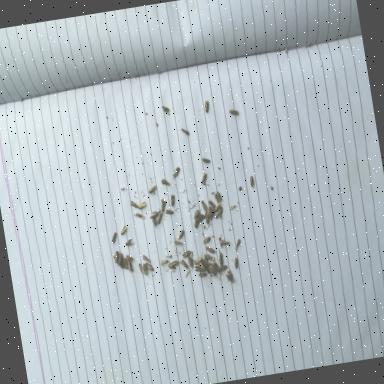pbw: (198, 172, 208, 186), (214, 206, 224, 219), (217, 247, 224, 265), (167, 259, 181, 268), (204, 244, 215, 255), (178, 258, 188, 270), (228, 106, 240, 116), (116, 252, 124, 266), (159, 198, 167, 212), (145, 260, 154, 272), (215, 264, 228, 272), (202, 99, 210, 112), (212, 260, 220, 273), (125, 252, 135, 262), (171, 166, 181, 176), (147, 184, 157, 194), (175, 228, 185, 238), (208, 262, 215, 276), (192, 213, 206, 220), (208, 208, 216, 220), (186, 255, 193, 268), (169, 193, 176, 206), (200, 200, 207, 213), (112, 249, 119, 262), (118, 224, 127, 234), (142, 254, 151, 264), (160, 178, 170, 187), (180, 127, 190, 136), (134, 211, 144, 220), (128, 199, 138, 208), (198, 260, 206, 271), (154, 212, 162, 223), (203, 252, 214, 260), (192, 208, 200, 219), (206, 206, 213, 218), (248, 174, 254, 188), (122, 256, 128, 270), (181, 250, 191, 258), (226, 273, 234, 283), (124, 238, 134, 246), (208, 199, 216, 209), (136, 200, 146, 208), (216, 191, 222, 204), (219, 238, 230, 245), (201, 156, 210, 164), (161, 104, 170, 112), (193, 256, 202, 264), (138, 262, 144, 274), (232, 256, 238, 268), (118, 256, 124, 268), (110, 232, 117, 242), (164, 208, 174, 215), (148, 212, 158, 219), (213, 203, 221, 211), (227, 270, 233, 280), (204, 212, 209, 224), (193, 218, 199, 228), (158, 258, 168, 264), (126, 259, 131, 271), (143, 262, 147, 276), (202, 236, 210, 243), (174, 239, 182, 246), (198, 272, 208, 277), (234, 240, 239, 250), (213, 193, 218, 203), (194, 264, 201, 271), (152, 216, 156, 226), (236, 238, 240, 245)
